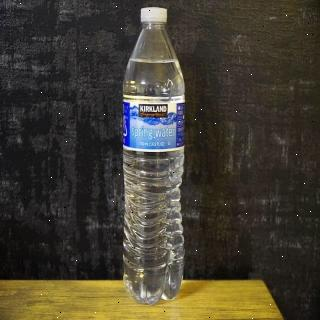Plastic-bottle: (119, 4, 189, 310)
